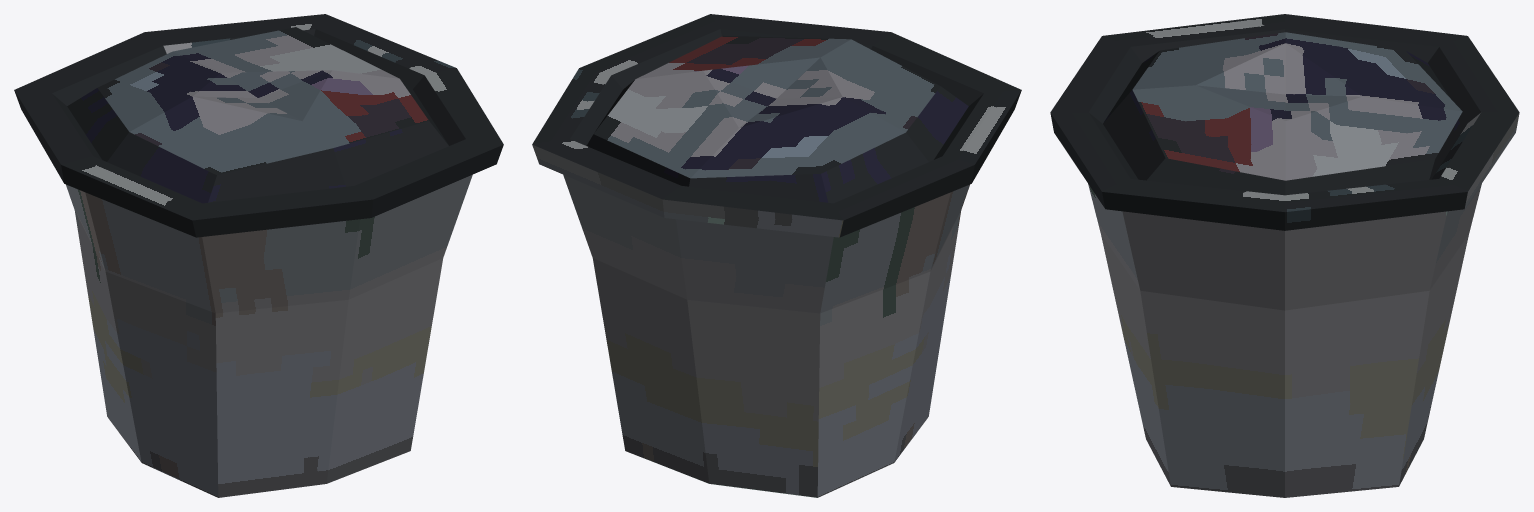
Rendered from trash_model.fbx.
3 renders of one model, left to right at view 1: azimuth 30°, elevation 25°; view 2: azimuth 150°, elevation 25°; view 3: azimuth 270°, elevation 25°, orthographic. The views are drawn at different scales.
Parts seen in each view (by area): view 1: trashCan; view 2: trashCan; view 3: trashCan.
Boxes of the visible parts, box(x1,y1,x2,y2) form: trashCan: box(14, 14, 503, 497); trashCan: box(532, 14, 1021, 497); trashCan: box(1050, 14, 1519, 497).
Size of the model in its own units: 206 by 176 by 206.
Materials: 1 (1 with a texture image).
